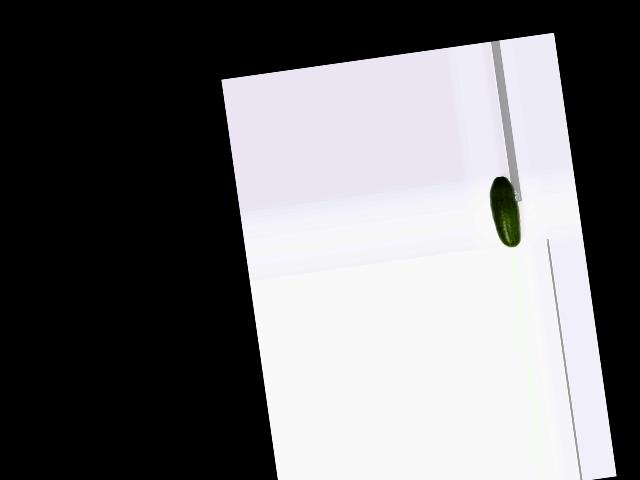cucumber: (486, 173, 524, 249)
